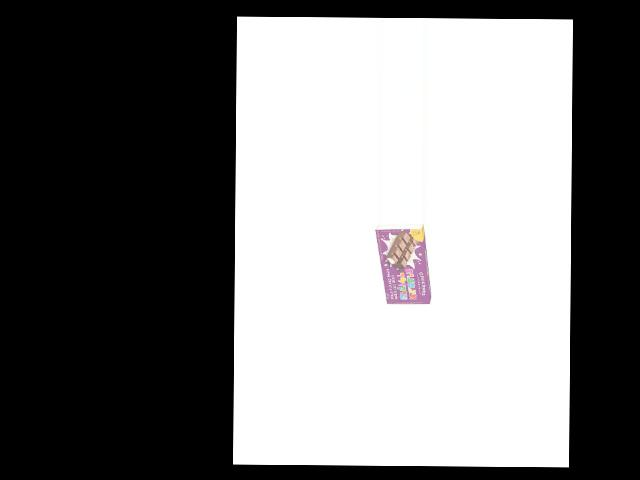chocolate: (378, 222, 431, 310)
